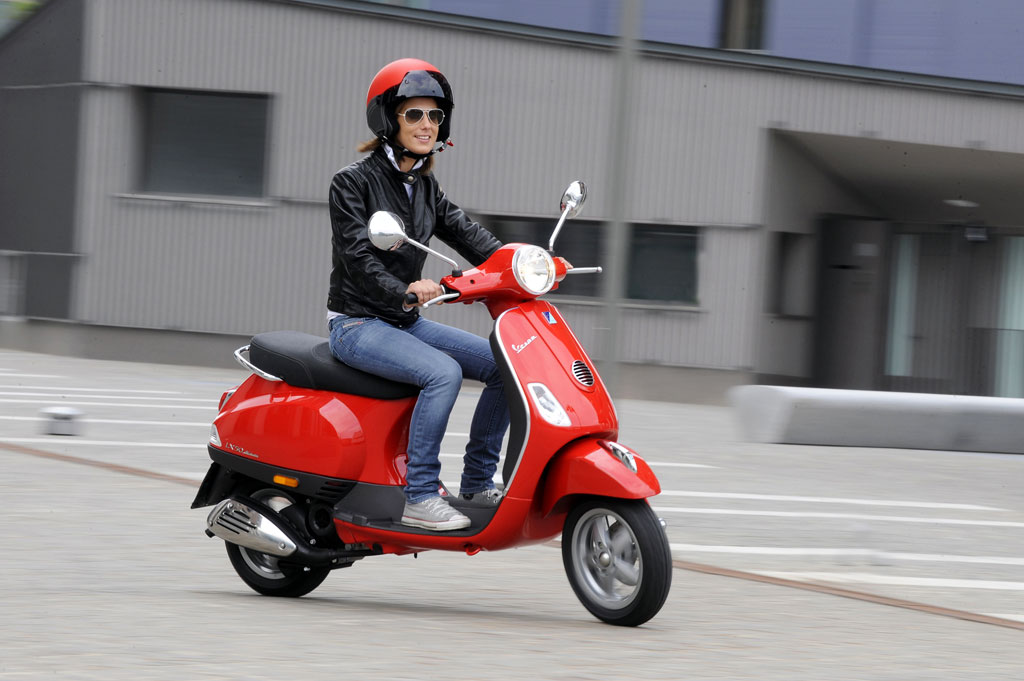with_helmet: (369, 59, 452, 154)
